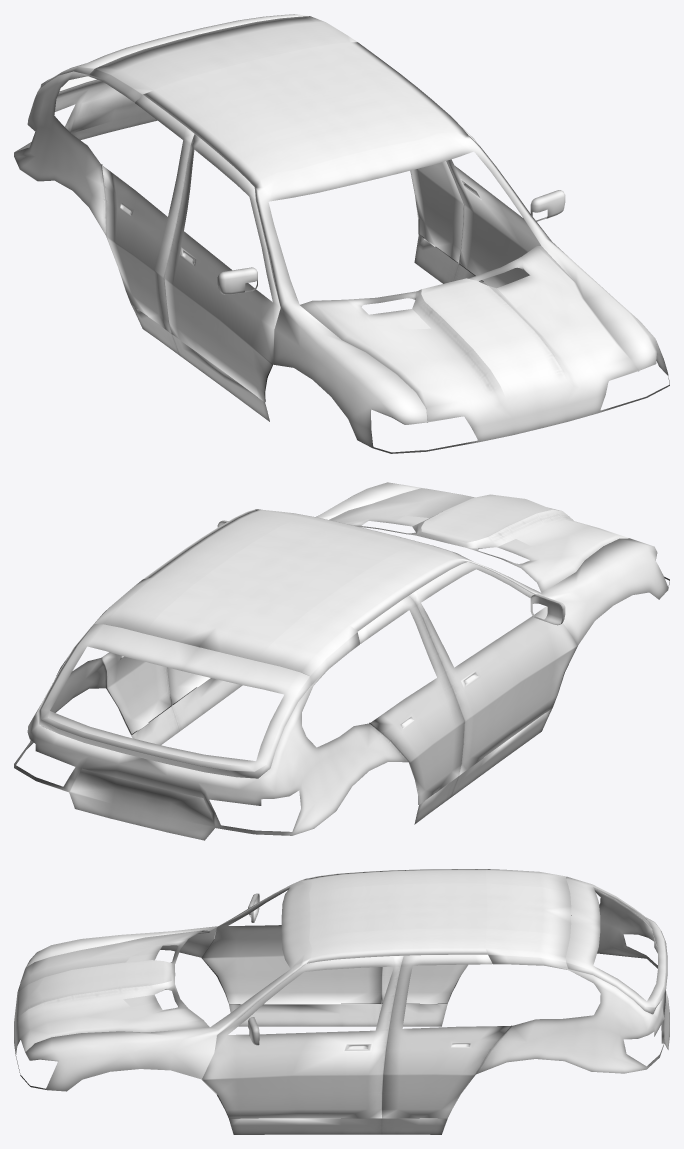
File: LK4_body.obj
3 renders of one model, top to bottom at view 1: azimuth 30°, elevation 25°; view 2: azimuth 150°, elevation 25°; view 3: azimuth 270°, elevation 25°, orthographic. The views are drawn at different scales.
Bounding box in the file's own units: 2.07 × 1.23 × 4.16.
1 material, 1 textured.
